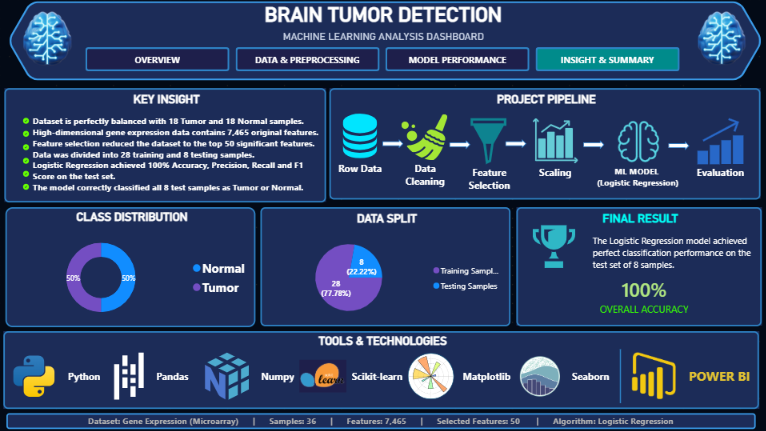

The page's visual inventory and layout, read from the dashboard file:
{"tool":"powerbi","page":{"name":"INSIGHT & SUMMARY","canvas":[1280,720],"ordinal":3},"visuals":[{"type":"textbox","title":"HEADING","box":[11,7.3,1259.5,38],"z":0,"group":"g10"},{"type":"textbox","title":"KEY INSIGHT","box":[10.2,148.1,535.7,190],"z":0,"group":"g2"},{"type":"group","id":"g1","title":"PROJECT PIPELINE","box":[552,148.5,718.4,185.4],"z":0,"group":"g9"},{"type":"image","title":"Image 1","box":[566.1,188.7,74.9,78.9],"z":0,"group":"g19"},{"type":"image","title":"Image 2","box":[671.6,191.9,77,76.6],"z":0,"group":"g18"},{"type":"image","title":"Image 4","box":[890.2,198.1,77,75.2],"z":0,"group":"g12"},{"type":"image","title":"Image 5","box":[1027.8,198.1,77,76.5],"z":0,"group":"g20"},{"type":"image","title":"Image 3","box":[779.1,198.4,77,76.7],"z":0,"group":"g15"},{"type":"shape","title":"ARROW 1","box":[639.7,233.5,35,15],"z":0,"group":"g1"},{"type":"textbox","title":"Text box 6","box":[1163.1,277,80,43],"z":0,"group":"g6"},{"type":"donutChart","title":"CLASS DISTRIBUTION","fields":{"Category":["cleaned_dataset.Diagnosis"],"Y":["CountNonNull(cleaned_dataset.Diagnosis)"]},"box":[11.4,347.1,417.1,200],"z":0,"group":"g7"},{"type":"textbox","title":"FINAL RESULT","box":[862.8,347.1,408.6,198.6],"z":0,"group":"g4"},{"type":"shape","title":"TOOLS & TECHNOLOGIES","box":[8.5,553.2,1259.6,129.4],"z":0,"group":"g3"},{"type":"image","box":[1043,584.5,100,87.8],"z":0,"group":"g13"},{"type":"image","box":[20.4,585.9,78.5,86.4],"z":0,"group":"g16"},{"type":"image","box":[179.3,585.9,78.5,86.4],"z":0,"group":"g17"},{"type":"image","box":[341.6,585.9,78.5,86.4],"z":0,"group":"g14"},{"type":"image","box":[502.3,585.9,78.5,86.4],"z":0,"group":"g11"},{"type":"image","box":[683,585.9,78.5,86.4],"z":0,"group":"g8"},{"type":"image","box":[863.1,587.6,78.5,84.3],"z":0,"group":"g5"},{"type":"textbox","title":"FOOTER","box":[13.9,690,1249,26],"z":0},{"type":"textbox","title":"SUBTITLE","box":[11,47.3,1260,30],"z":1000,"group":"g10"},{"type":"group","id":"g2","title":"KEY INSIGHT","box":[10.2,148.1,535.7,190],"z":1000,"group":"g9"},{"type":"shape","title":"PROJECT PIPELINE","box":[552,148.5,718.4,185.4],"z":1000,"group":"g1"},{"type":"image","title":"Img 1","box":[40.8,195.8,12,12],"z":1000,"group":"g2"},{"type":"image","title":"Image 6","box":[1164,198.1,77,76.5],"z":1000,"group":"g6"},{"type":"textbox","title":" Text box 1","box":[564,270.2,79,43],"z":1000,"group":"g19"},{"type":"textbox","title":"Text box 2","box":[671.5,270.7,79,43],"z":1000,"group":"g18"},{"type":"textbox","title":"Text box 4","box":[888,275.7,80,43],"z":1000,"group":"g12"},{"type":"textbox","title":"Text box 5","box":[996.5,277,138,43],"z":1000,"group":"g20"},{"type":"textbox","title":"Text box 3","box":[779.4,277.3,80,43],"z":1000,"group":"g15"},{"type":"pieChart","title":"DATA SPLIT","fields":{"Category":["Data_Split.Sample Type"],"Y":["Sum(Data_Split.Count)"]},"box":[435.7,347.1,417.1,198.6],"z":1000,"group":"g7"},{"type":"image","box":[874.2,377.1,101.4,71.4],"z":1000,"group":"g4"},{"type":"group","id":"g3","title":"BODY 3","box":[8.5,553.2,1259.6,129.4],"z":1000},{"type":"shape","box":[1011.4,582.9,50,90],"z":1000,"group":"g3"},{"type":"shape","box":[1043.5,583.8,219.5,88],"z":1000,"group":"g13"},{"type":"shape","box":[20.8,585.5,154.8,86.4],"z":1000,"group":"g16"},{"type":"shape","box":[179.7,585.5,158.3,86.4],"z":1000,"group":"g17"},{"type":"shape","box":[342,585.5,156.6,86.4],"z":1000,"group":"g14"},{"type":"shape","box":[503.5,585.5,175.3,86.4],"z":1000,"group":"g11"},{"type":"shape","box":[682.4,585.5,177,86.4],"z":1000,"group":"g8"},{"type":"shape","box":[863.2,585.5,159.8,85.9],"z":1000,"group":"g5"},{"type":"shape","title":"BORDER","box":[14.5,3.8,1259.5,132],"z":2000,"group":"g10"},{"type":"image","title":"Img 2","box":[40.8,217.7,11.9,11.9],"z":2000,"group":"g2"},{"type":"shape","title":"ARROW 2","box":[752,234.9,35,15],"z":2000,"group":"g1"},{"type":"group","id":"g4","title":"FINAL RESULT","box":[862.8,347.1,408.6,198.6],"z":2000,"group":"g7"},{"type":"cardVisual","title":"Overall Accuracy","fields":{"Data":["Sum(ModelMetrics.Value)"]},"box":[966.8,455,219.6,78.3],"z":2000,"group":"g4"},{"type":"group","id":"g5","title":"Seaborn","box":[863.1,585.5,160,86.4],"z":2000,"group":"g3"},{"type":"image","title":"LEFT BRAIN","box":[20,12.3,122.8,105.5],"z":3000,"group":"g10"},{"type":"group","id":"g6","title":"Evaluation","box":[1163.1,198.1,80,121.9],"z":3000,"group":"g1"},{"type":"image","title":"Img 3","box":[40.8,239.5,11.9,13.6],"z":3000,"group":"g2"},{"type":"group","id":"g7","title":"BODY 2","box":[11.4,347.1,1260,200],"z":3000},{"type":"group","id":"g8","title":"Matplotlib","box":[682.4,585.5,177,86.9],"z":3000,"group":"g3"},{"type":"group","id":"g9","title":"BODY 1","box":[10.2,148.1,1260.1,190],"z":3500},{"type":"group","id":"g10","title":"HEADER","box":[11,3.8,1263,132],"z":4000},{"type":"image","title":"RIGHT BRAIN","box":[1140,12.3,131,104.5],"z":4000,"group":"g10"},{"type":"shape","title":"ARROW 3","box":[846,233.5,35,15],"z":4000,"group":"g1"},{"type":"image","title":"Img 4","box":[40.8,263.1,11.9,11.9],"z":4000,"group":"g2"},{"type":"group","id":"g11","title":"scikit-learn","box":[502.3,585.5,176.5,86.9],"z":4000,"group":"g3"},{"type":"pageNavigator","box":[145,80,992,40],"z":5000,"group":"g10"},{"type":"group","id":"g12","title":"Scaling","box":[888,198.1,80,120.6],"z":5000,"group":"g1"},{"type":"image","title":" Img 5","box":[40.8,284.9,12,12],"z":5000,"group":"g2"},{"type":"group","id":"g13","title":"Power bi","box":[1043,583.8,220.1,88.5],"z":5000,"group":"g3"},{"type":"shape","title":"ARROW 4","box":[976,234.9,35,15],"z":6000,"group":"g1"},{"type":"image","title":"Img 6","box":[40.8,306.8,12,12],"z":6000,"group":"g2"},{"type":"group","id":"g14","title":"Numpy","box":[341.6,585.5,157,86.9],"z":6000,"group":"g3"},{"type":"group","id":"g15","title":"Feature Selection","box":[779.1,198.4,80.3,121.9],"z":7000,"group":"g1"},{"type":"group","id":"g16","title":"Python","box":[20.4,585.5,155.3,86.9],"z":7000,"group":"g3"},{"type":"shape","title":"ARROW 5","box":[1117,236.3,35,15],"z":8000,"group":"g1"},{"type":"group","id":"g17","title":"Pandas","box":[179.3,585.5,158.7,86.9],"z":8000,"group":"g3"},{"type":"group","id":"g18","title":"Data Cleaning","box":[671.5,191.9,79,121.8],"z":9000,"group":"g1"},{"type":"group","id":"g19","title":"Row Data","box":[564,188.7,79,124.5],"z":10000,"group":"g1"},{"type":"group","id":"g20","title":"Ml Model","box":[996.5,198.1,138,121.9],"z":11000,"group":"g1"}]}

Visuals, with their boxes in screenshot pixels (x1, y1, x2, y2), scaled from the page's 1280x720 canvas onto the 766x431 screenshot:
"HEADING" textbox: select_region(7, 4, 760, 27)
"KEY INSIGHT" textbox: select_region(6, 89, 327, 202)
"PROJECT PIPELINE" group: select_region(330, 89, 760, 200)
"Image 1" image: select_region(339, 113, 384, 160)
"Image 2" image: select_region(402, 115, 448, 161)
"Image 4" image: select_region(533, 119, 579, 164)
"Image 5" image: select_region(615, 119, 661, 164)
"Image 3" image: select_region(466, 119, 512, 165)
"ARROW 1" shape: select_region(383, 140, 404, 149)
"Text box 6" textbox: select_region(696, 166, 744, 192)
"CLASS DISTRIBUTION" donutChart: select_region(7, 208, 256, 328)
"FINAL RESULT" textbox: select_region(516, 208, 761, 327)
"TOOLS & TECHNOLOGIES" shape: select_region(5, 331, 759, 409)
image: select_region(624, 350, 684, 402)
image: select_region(12, 351, 59, 402)
image: select_region(107, 351, 154, 402)
image: select_region(204, 351, 251, 402)
image: select_region(301, 351, 348, 402)
image: select_region(409, 351, 456, 402)
image: select_region(517, 352, 563, 402)
"FOOTER" textbox: select_region(8, 413, 756, 429)
"SUBTITLE" textbox: select_region(7, 28, 761, 46)
"KEY INSIGHT" group: select_region(6, 89, 327, 202)
"PROJECT PIPELINE" shape: select_region(330, 89, 760, 200)
"Img 1" image: select_region(24, 117, 32, 124)
"Image 6" image: select_region(697, 119, 743, 164)
" Text box 1" textbox: select_region(338, 162, 385, 187)
"Text box 2" textbox: select_region(402, 162, 449, 188)
"Text box 4" textbox: select_region(531, 165, 579, 191)
"Text box 5" textbox: select_region(596, 166, 679, 192)
"Text box 3" textbox: select_region(466, 166, 514, 192)
"DATA SPLIT" pieChart: select_region(261, 208, 510, 327)
image: select_region(523, 226, 584, 268)
"BODY 3" group: select_region(5, 331, 759, 409)
shape: select_region(605, 349, 635, 403)
shape: select_region(624, 349, 756, 402)
shape: select_region(12, 350, 105, 402)
shape: select_region(108, 350, 202, 402)
shape: select_region(205, 350, 298, 402)
shape: select_region(301, 350, 406, 402)
shape: select_region(408, 350, 514, 402)
shape: select_region(517, 350, 612, 402)
"BORDER" shape: select_region(9, 2, 762, 81)
"Img 2" image: select_region(24, 130, 32, 137)
"ARROW 2" shape: select_region(450, 141, 471, 150)
"FINAL RESULT" group: select_region(516, 208, 761, 327)
"Overall Accuracy" cardVisual: select_region(579, 272, 710, 319)
"Seaborn" group: select_region(517, 350, 612, 402)
"LEFT BRAIN" image: select_region(12, 7, 85, 71)
"Evaluation" group: select_region(696, 119, 744, 192)
"Img 3" image: select_region(24, 143, 32, 152)
"BODY 2" group: select_region(7, 208, 761, 328)
"Matplotlib" group: select_region(408, 350, 514, 403)
"BODY 1" group: select_region(6, 89, 760, 202)
"HEADER" group: select_region(7, 2, 762, 81)
"RIGHT BRAIN" image: select_region(682, 7, 761, 70)
"ARROW 3" shape: select_region(506, 140, 527, 149)
"Img 4" image: select_region(24, 157, 32, 165)
"scikit-learn" group: select_region(301, 350, 406, 403)
pageNavigator: select_region(87, 48, 680, 72)
"Scaling" group: select_region(531, 119, 579, 191)
" Img 5" image: select_region(24, 171, 32, 178)
"Power bi" group: select_region(624, 349, 756, 402)
"ARROW 4" shape: select_region(584, 141, 605, 150)
"Img 6" image: select_region(24, 184, 32, 191)
"Numpy" group: select_region(204, 350, 298, 403)
"Feature Selection" group: select_region(466, 119, 514, 192)
"Python" group: select_region(12, 350, 105, 403)
"ARROW 5" shape: select_region(668, 141, 689, 150)
"Pandas" group: select_region(107, 350, 202, 403)
"Data Cleaning" group: select_region(402, 115, 449, 188)
"Row Data" group: select_region(338, 113, 385, 187)
"Ml Model" group: select_region(596, 119, 679, 192)
